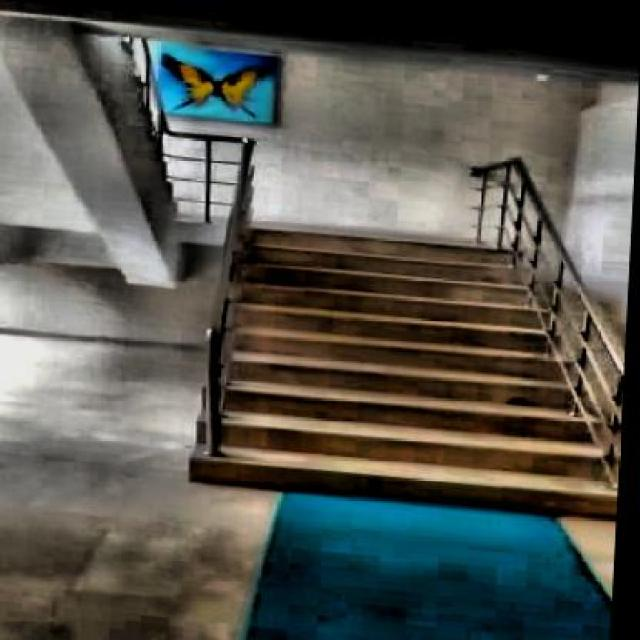stair: (183, 202, 631, 510)
